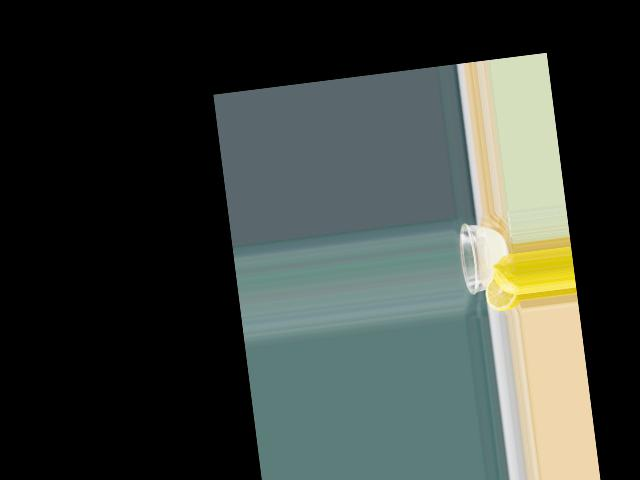lemon: (480, 253, 521, 310)
